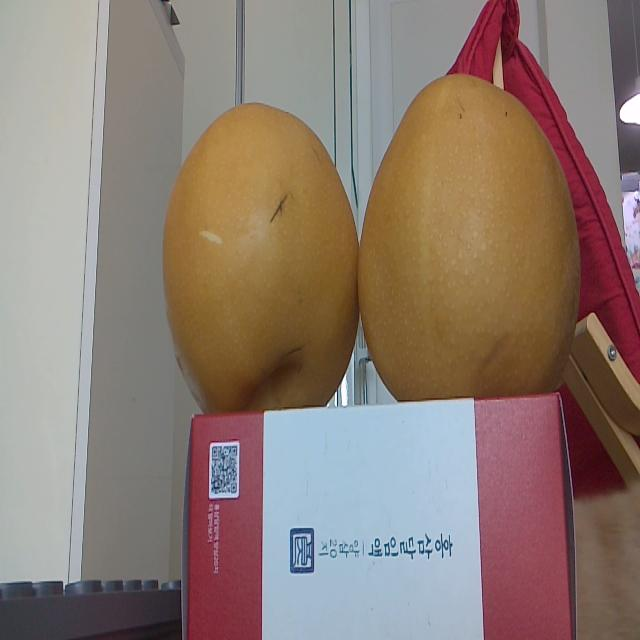pear: (359, 63, 581, 401), (161, 100, 361, 416)
